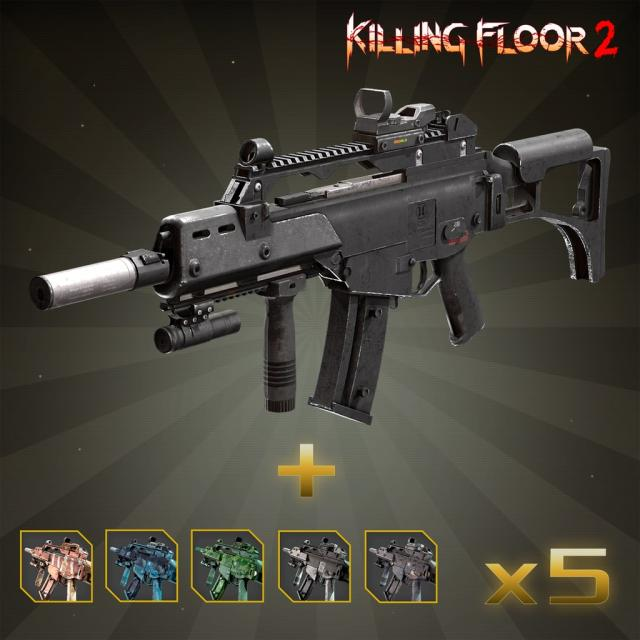Rifle: (28, 89, 611, 427)
